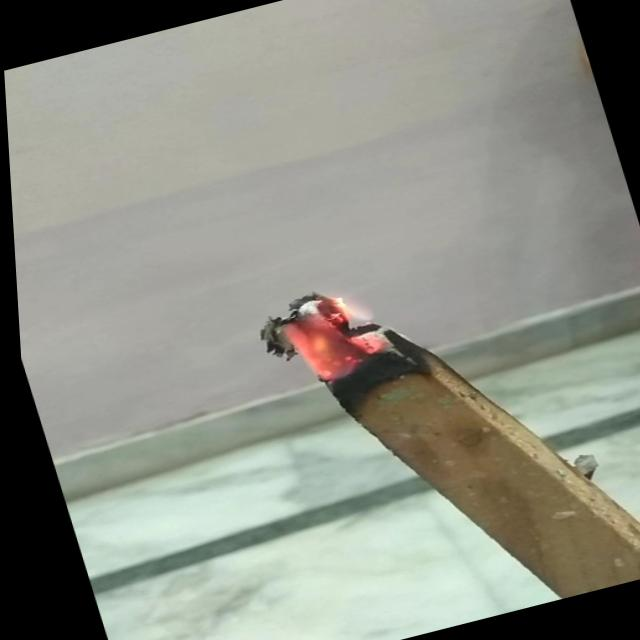fire: (257, 267, 395, 393)
